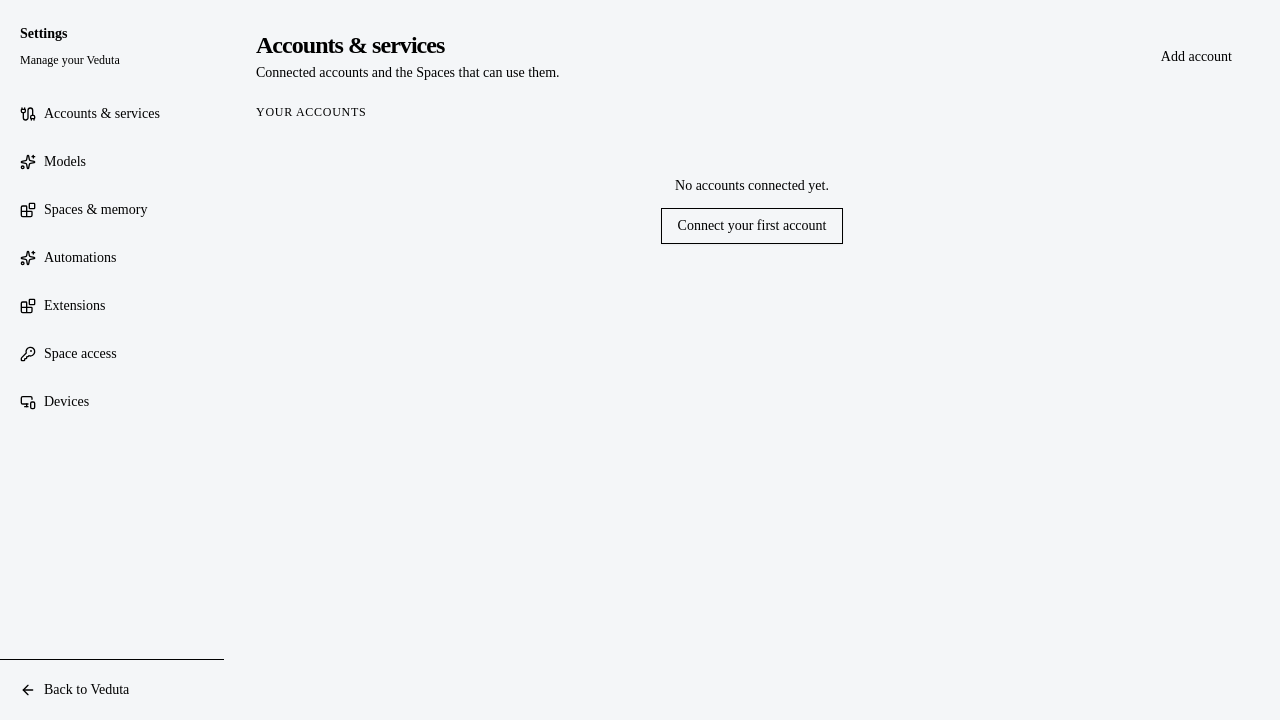
Test: ConnectionsPage › connects a subsequent Gmail account without collecting Google client credentials again
Expected: the text "No accounts connected yet." is shown, [675,178,829,193]
Click the button "Add account" at point(1196, 56), box [1145,38,1248,74]
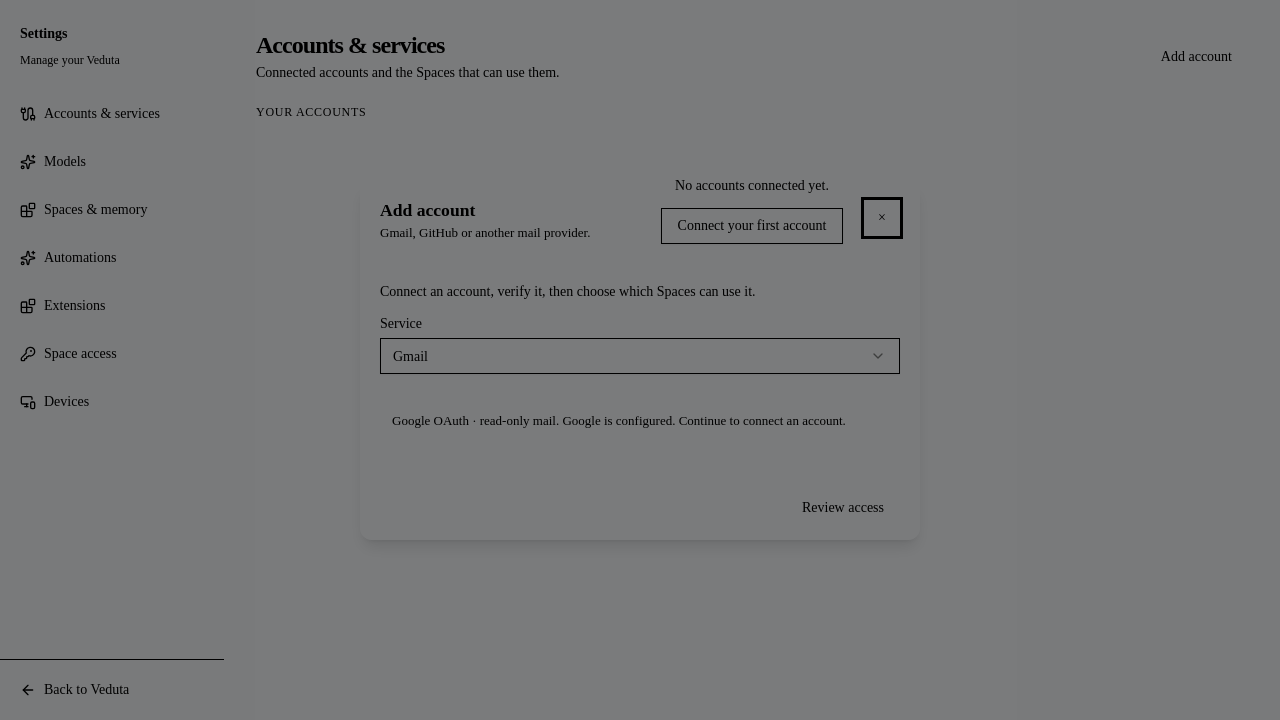
Submit the form with id "create-service", box [380,316,900,456]
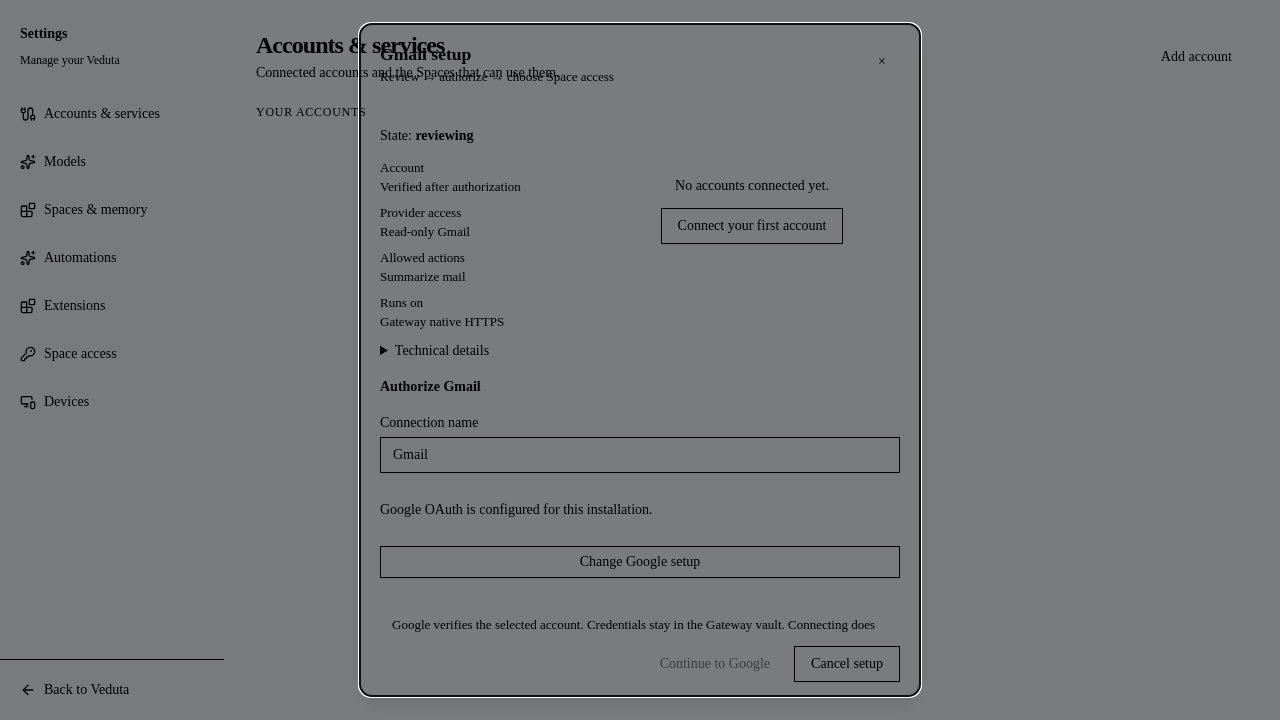
Submit the form, box [380,359,900,679]
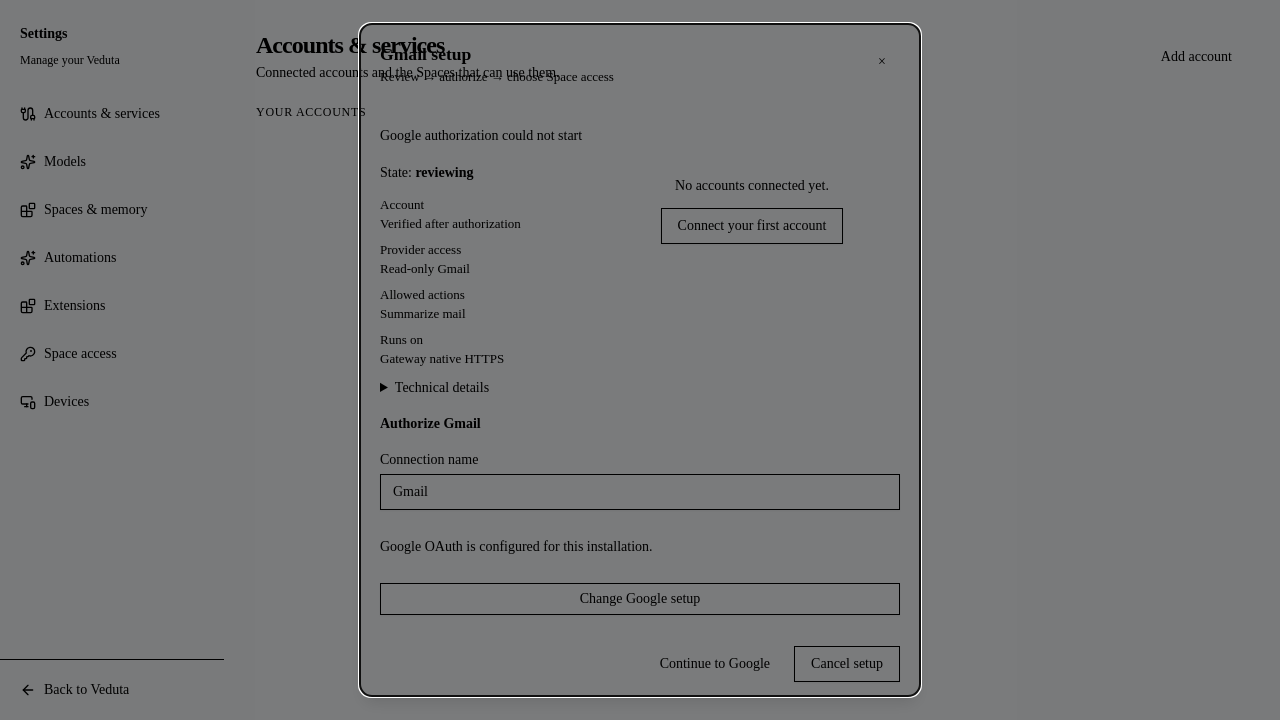
Expected: the message "Google authorization could not start" is shown, [380,128,582,143]
